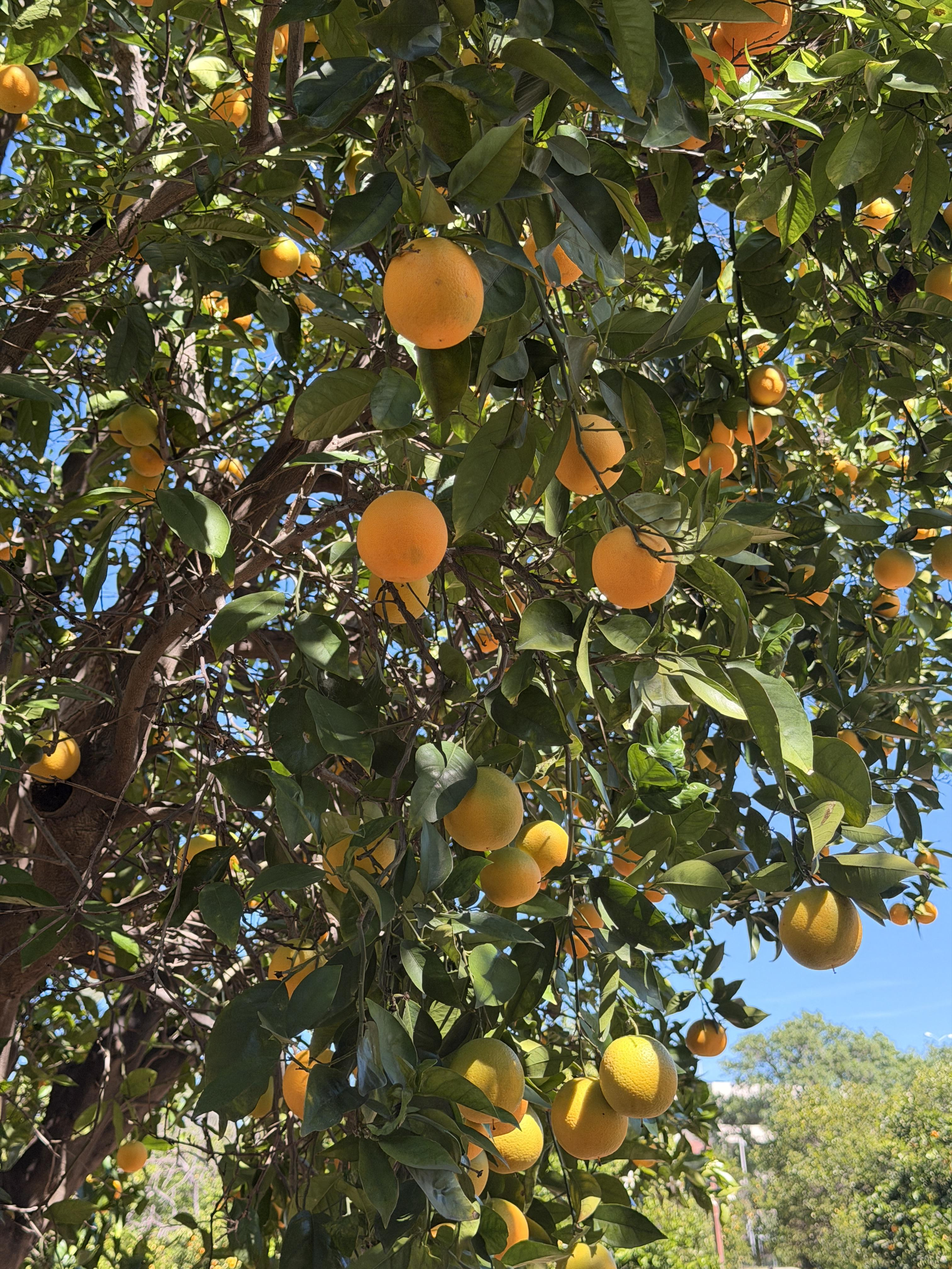orange: (383, 237, 483, 349), (357, 491, 447, 583), (591, 523, 675, 610), (779, 886, 861, 970), (445, 767, 523, 851), (599, 1036, 677, 1118), (450, 1037, 525, 1122), (551, 1077, 627, 1159), (555, 414, 626, 495), (323, 830, 395, 894), (524, 223, 588, 294), (721, 0, 792, 54), (490, 1103, 544, 1174), (479, 847, 541, 908), (691, 27, 750, 91), (269, 938, 328, 1000), (282, 1049, 333, 1118), (368, 573, 430, 624), (23, 728, 80, 782), (515, 820, 568, 877), (0, 63, 39, 114), (787, 563, 830, 606), (176, 834, 222, 874), (259, 236, 301, 279), (492, 1199, 529, 1247), (873, 548, 915, 590), (557, 1241, 618, 1269), (685, 1018, 727, 1057), (749, 365, 787, 406), (120, 405, 157, 446), (211, 88, 248, 127), (125, 469, 164, 506), (859, 197, 896, 233), (734, 409, 772, 444), (699, 442, 736, 476), (5, 250, 35, 291), (612, 839, 643, 876), (116, 1140, 149, 1174), (288, 205, 323, 236), (573, 902, 603, 938), (130, 447, 165, 477), (925, 263, 952, 301), (931, 535, 952, 579), (109, 412, 133, 448), (709, 416, 734, 446), (873, 590, 900, 617), (218, 458, 245, 484), (837, 730, 863, 754), (565, 934, 591, 958), (298, 252, 320, 278), (914, 902, 937, 924), (889, 902, 910, 926), (915, 850, 939, 868), (67, 304, 87, 325), (643, 883, 665, 901), (762, 214, 777, 237), (896, 173, 912, 192), (943, 202, 952, 230)
